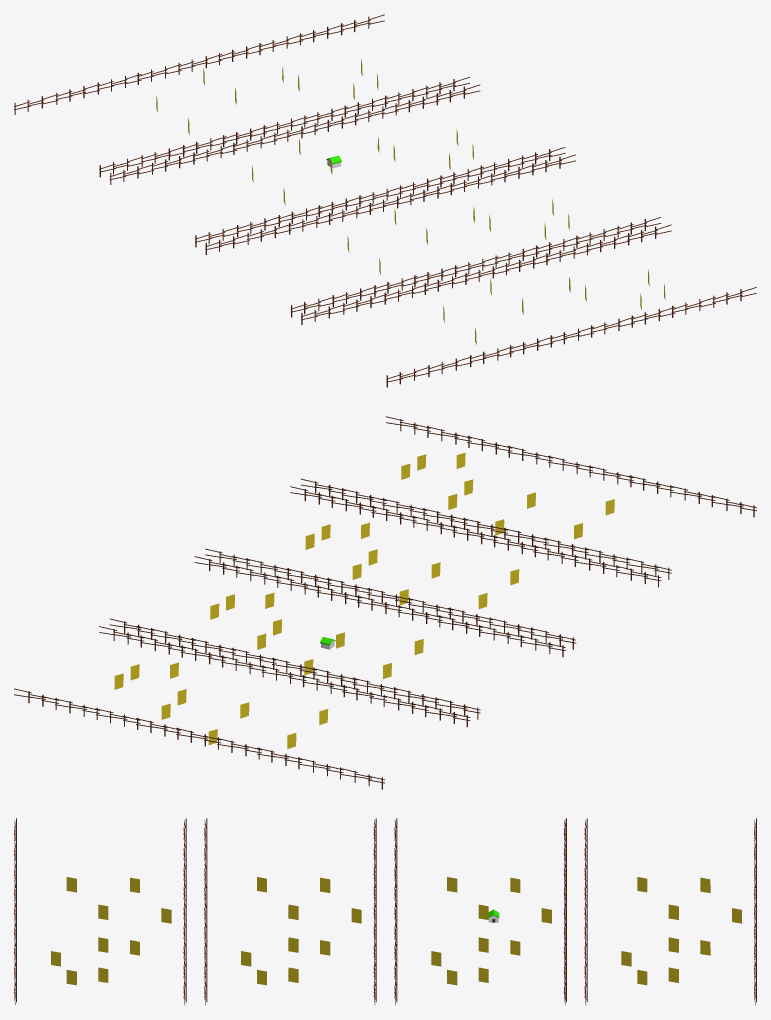
The model's file is farm05.glb.
3 renders of one model, top to bottom at view 1: azimuth 30°, elevation 25°; view 2: azimuth 150°, elevation 25°; view 3: azimuth 270°, elevation 25°, orthographic.
Parts seen in each view (by area): view 1: Farm05; view 2: Farm05; view 3: Farm05.
Part boxes in pixels (x1,y1,x2,y2): Farm05: (14, 14, 756, 387); Farm05: (14, 416, 756, 789); Farm05: (14, 818, 756, 1005).
Size of the model in its own units: 17.92 by 0.8765 by 31.26.
